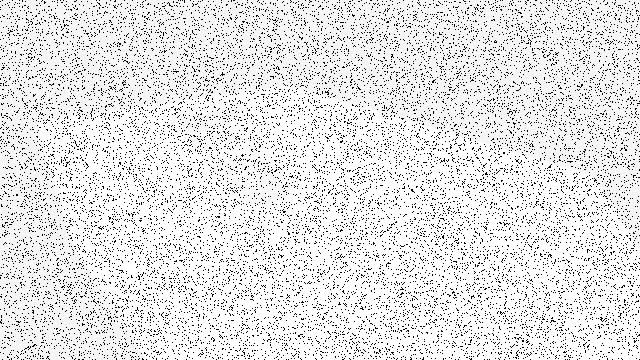pot: (163, 97, 287, 203)
